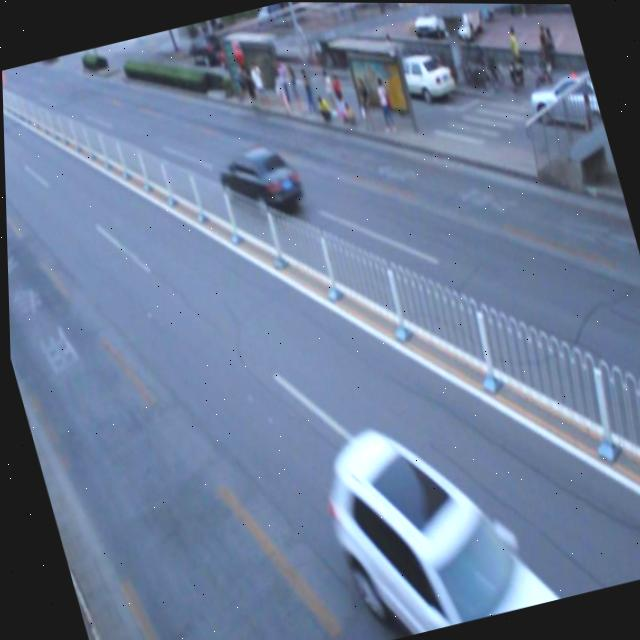car: (308, 402, 555, 640), (211, 138, 306, 222)
